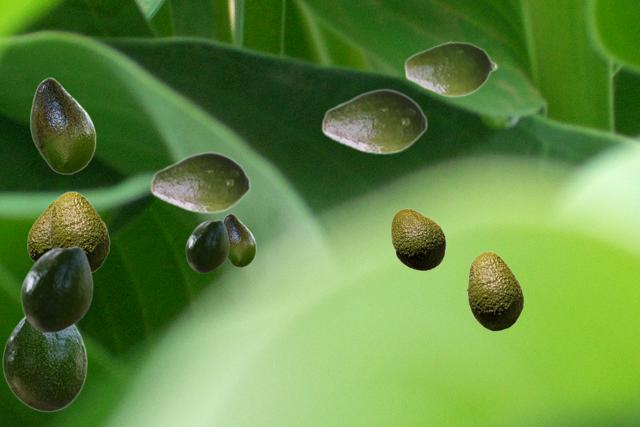avocado: (2, 316, 86, 411), (321, 88, 427, 154), (20, 245, 92, 332), (30, 77, 95, 173), (150, 151, 250, 213), (403, 40, 497, 97), (47, 191, 109, 272), (465, 251, 523, 330), (390, 208, 445, 270), (185, 219, 228, 272), (223, 213, 255, 266), (27, 200, 54, 261)
